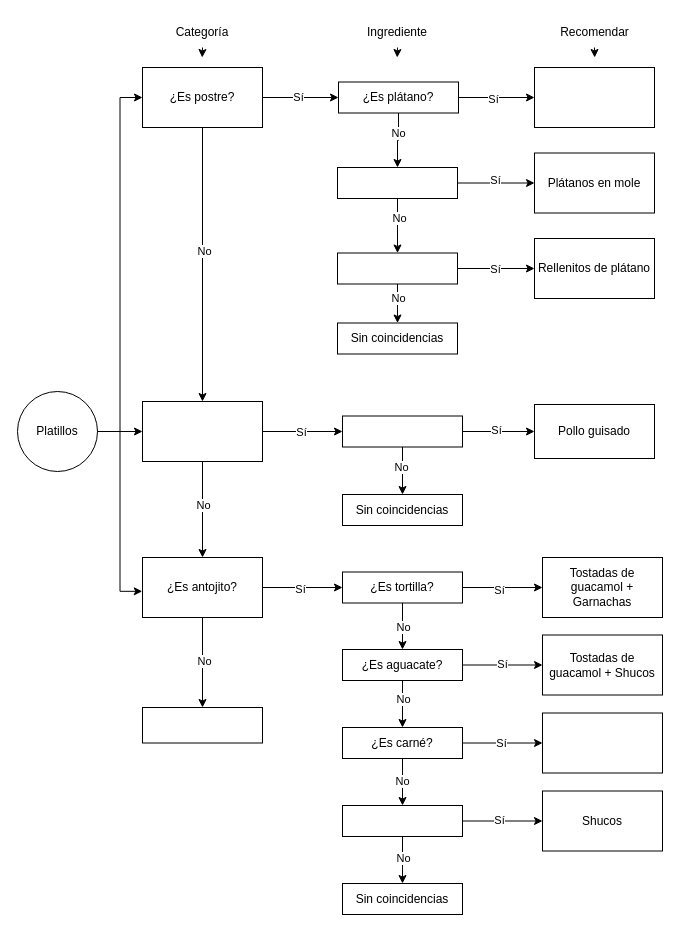
Some shapes in this 680 by 932 pixel diagram are drawn without their labels. Each missing label, with the centre of its shape:
"Garnachas" belongs at pixel 602 742.
"Pollo, papa, tomate" belongs at pixel 402 431.
"Rellenitos de plátano + Plátano en mole" belongs at pixel 594 97.
"Sin categoría" belongs at pixel 202 724.
"¿Chocolate o semilla?" belongs at pixel 397 182.
"¿Es frijol?" belongs at pixel 397 268.
"¿Es plato fuerte?" belongs at pixel 202 431.
"¿Pan o salchicha?" belongs at pixel 402 820.
